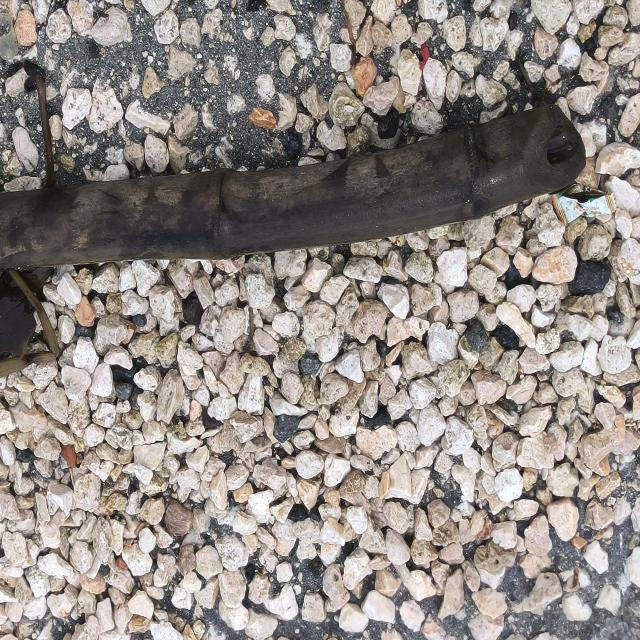wood_waste: (1, 99, 589, 274)
